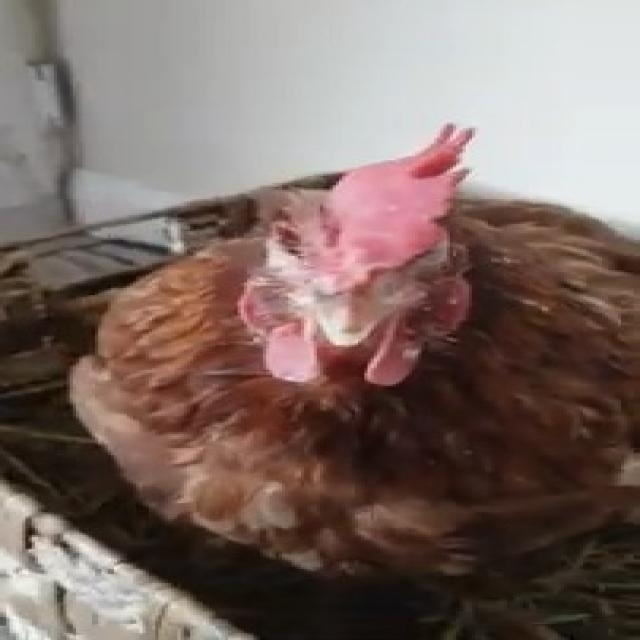sleeping chickens: (69, 119, 640, 581)
